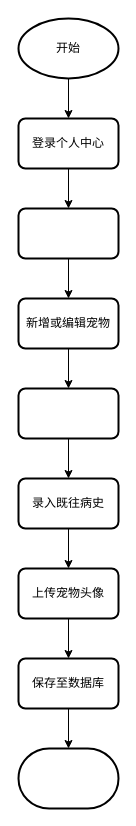
This 136x826 diagram has some shape labels left out. The centre of each missing label's shape, as x and y in pixels:
"填写基础信息(品种/年龄/性别)" belongs at pixel 68 413.
"点击“我的宠物”" belongs at pixel 68 233.
"结束" belongs at pixel 68 778.
